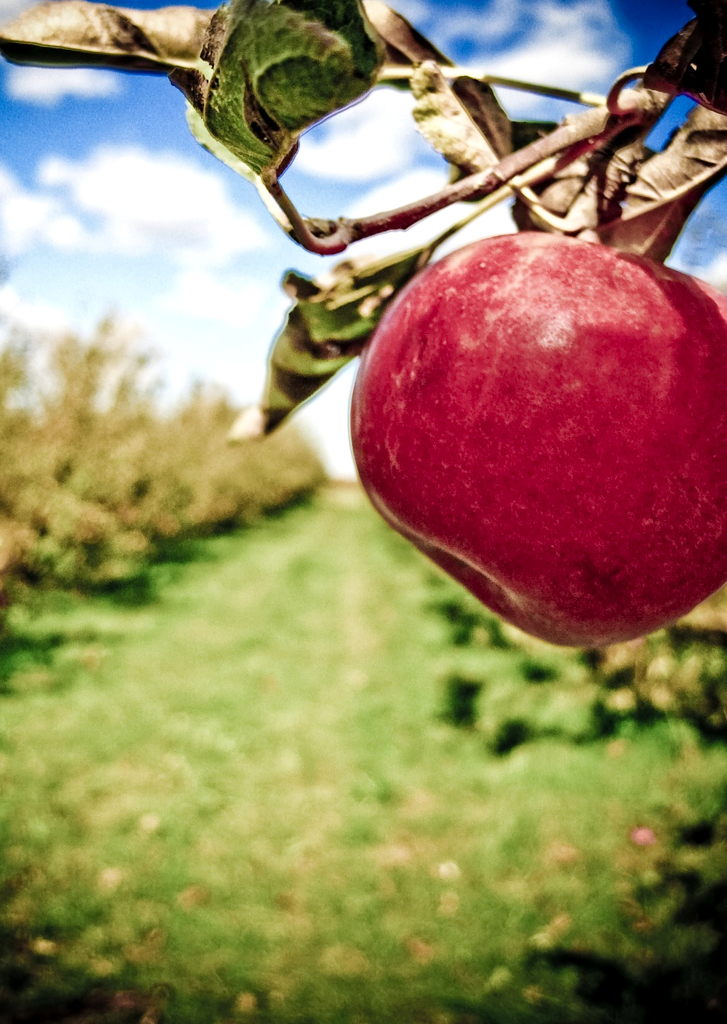Apple: (331, 237, 726, 661)
